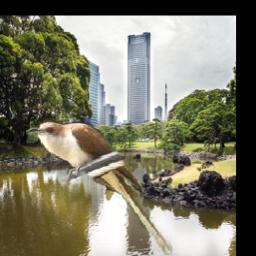Cuckoo: (27, 119, 173, 256)
